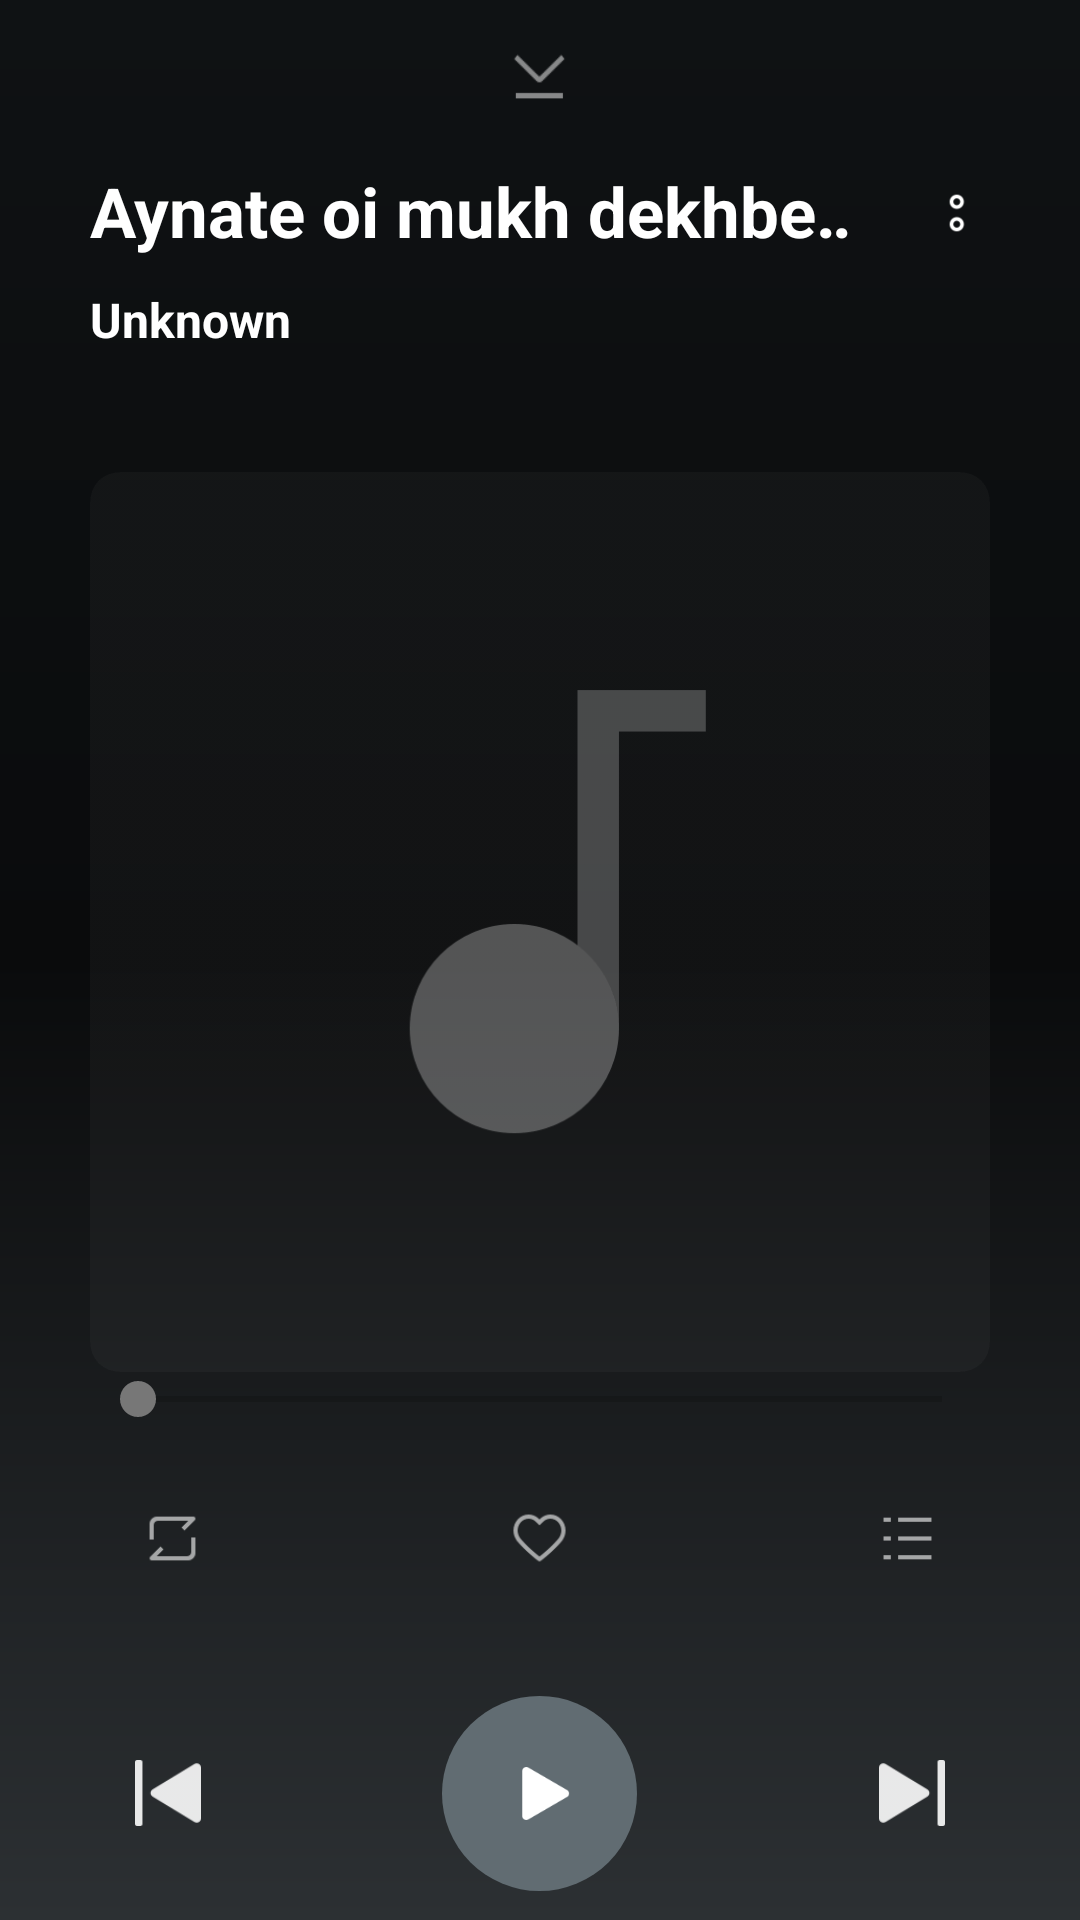

Icons on this 1080px x 1920px Android screen, each with the point to tap as [x,y]:
music player like: [539,1538]
music player more: [957,213]
music player play list: [907,1538]
music player play loop: [172,1538]
next: [912,1793]
player: [545,1793]
previous: [168,1793]
